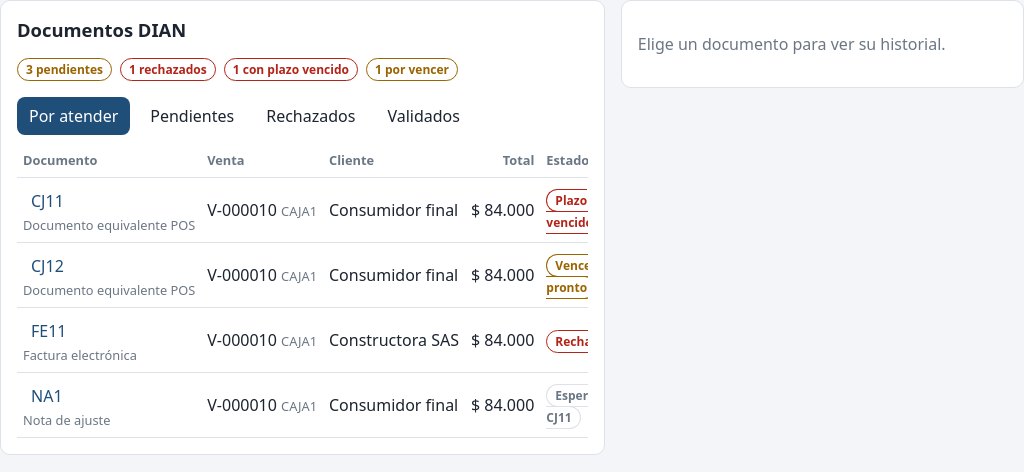
Test case: bandeja de documentos DIAN › muestra el historial y el supervisor reintenta un rechazado
Click the button "FE11": (49, 331) 23,316 -> 74,346
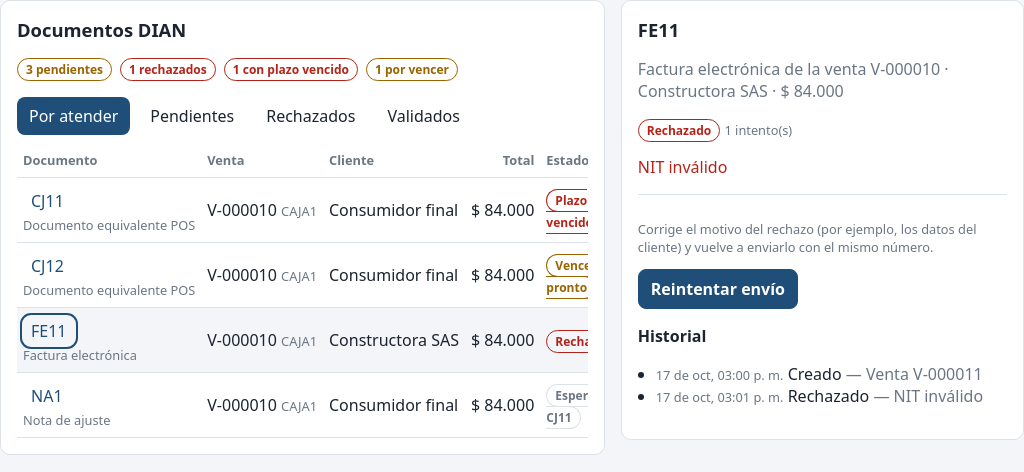
Check: the heading "FE11" is shown, box 638,17 -> 679,42
Check: the text "NIT inválido" is shown, box 638,156 -> 727,178
Click the button "Reintentar envío": (718, 289) 638,269 -> 798,309
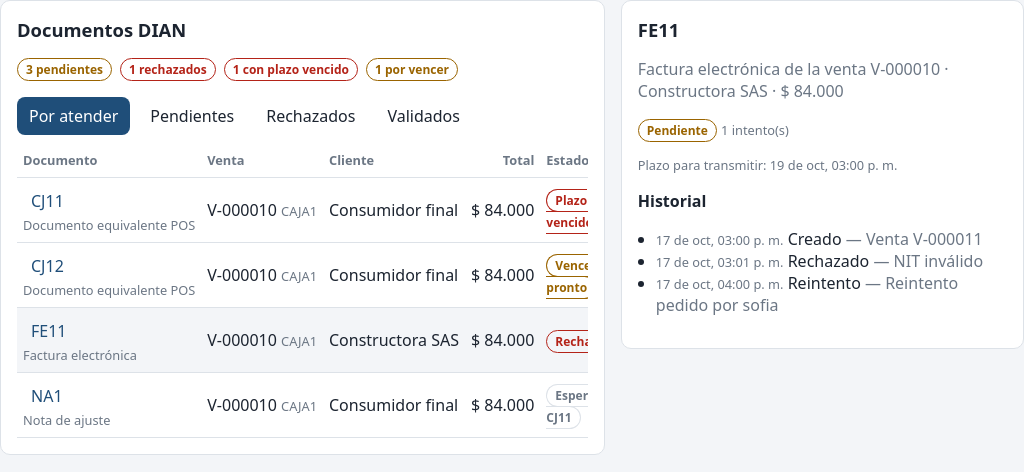
Check: the list item "Reintento" is shown, box 788,272 -> 861,294
Check: the list item that starts with "17 de oct, 04:00 p. m." shows "Reintento — Reintento pedido por sofia", box 656,272 -> 1007,316
Check: the button "Reintentar envío" is gone
